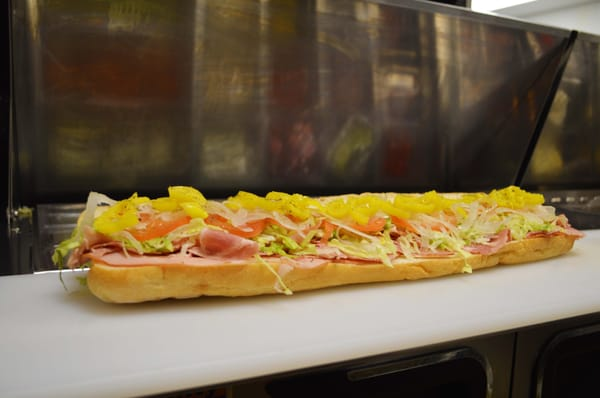sandwich: (66, 184, 581, 302)
